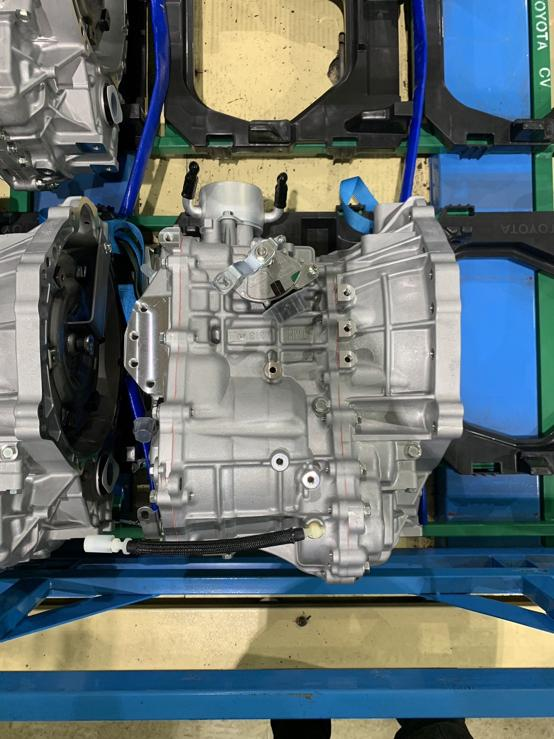gearbox_type1: (120, 187, 467, 573)
gearbox_type1_FP1: (335, 348, 359, 374), (337, 315, 360, 340), (333, 279, 354, 305)
gearbox_type1_FP2: (160, 220, 187, 254)
